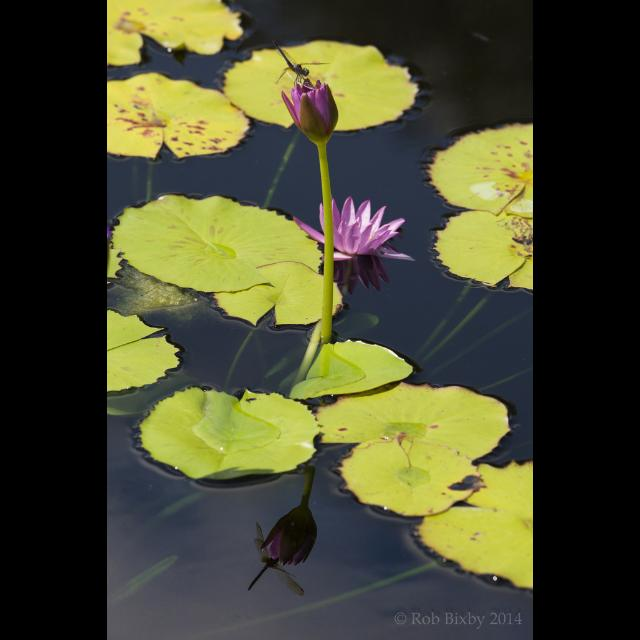Flower: (300, 200, 412, 266), (280, 48, 352, 136)
